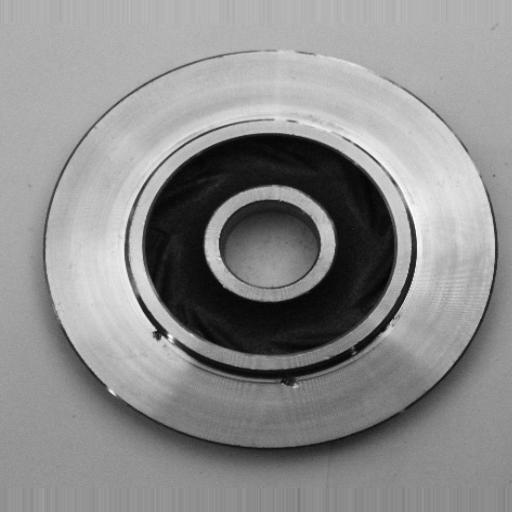crack: (145, 321, 188, 354), (265, 369, 310, 397)
scratch: (259, 103, 356, 149)
unpolished_casting: (42, 45, 496, 454)
